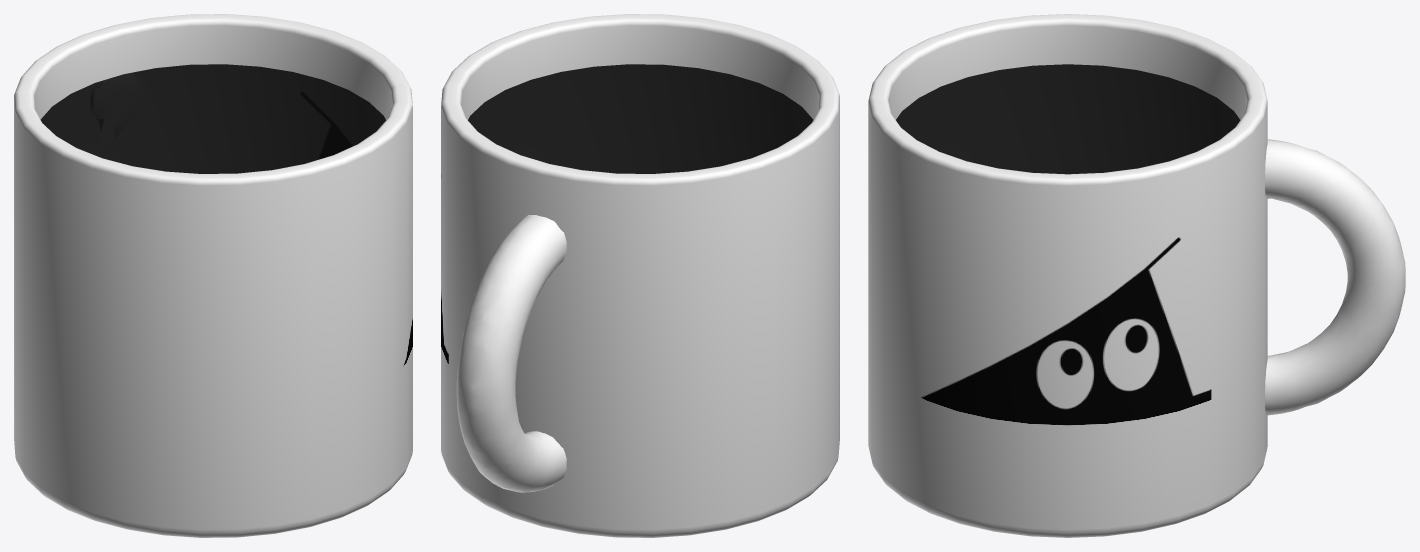
File: マグカップ.fbx
3 views of the same model, side by side, from view 1: azimuth 30°, elevation 25°; view 2: azimuth 150°, elevation 25°; view 3: azimuth 270°, elevation 25° (orthographic).
Parts seen in each view (by area): view 1: 円柱; view 2: 円柱, トーラス; view 3: 円柱, トーラス.
Part boxes in pixels (x1,y1,x2,y2): 円柱: (14,14,412,537); 円柱: (441,14,839,537); トーラス: (456,215,566,492); 円柱: (868,14,1267,537); トーラス: (1265,139,1405,415).
Size of the model in its own units: 200 by 200 by 269.
3 materials, 1 textured.
